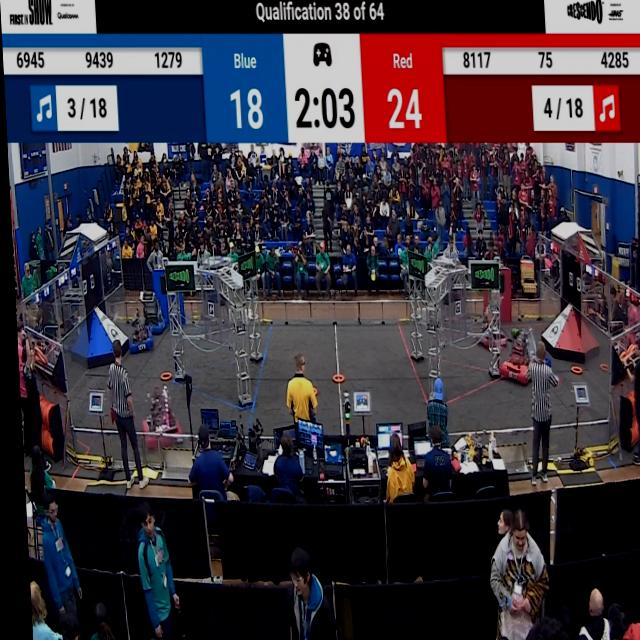Robot: (135, 372, 179, 451), (469, 291, 505, 353), (497, 324, 530, 389), (122, 300, 151, 356), (142, 291, 164, 337)
